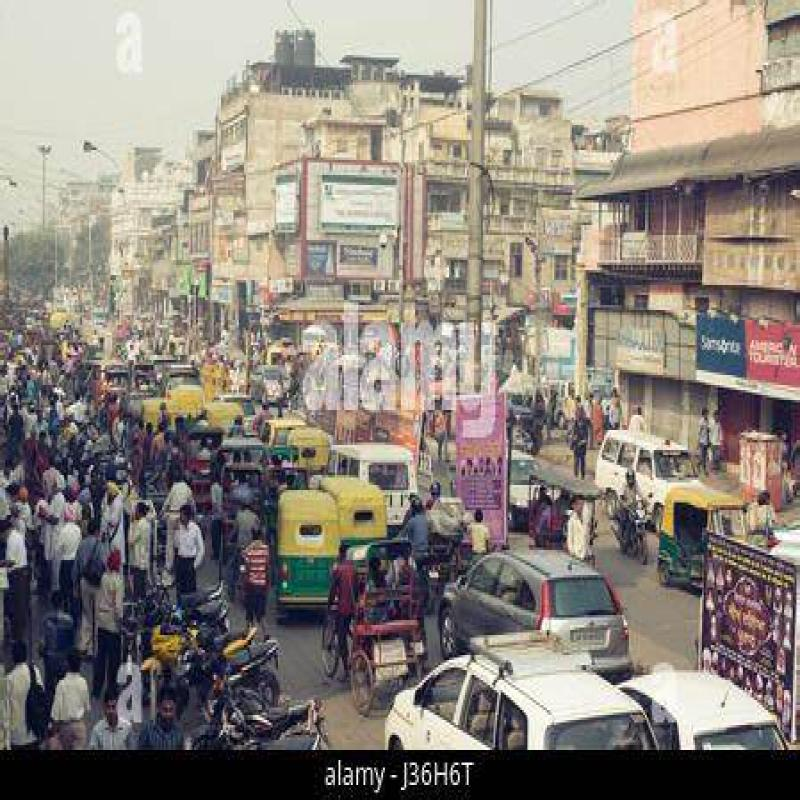car: (390, 627, 671, 800), (451, 543, 607, 659), (619, 654, 791, 749), (597, 417, 698, 533), (326, 436, 428, 540)
